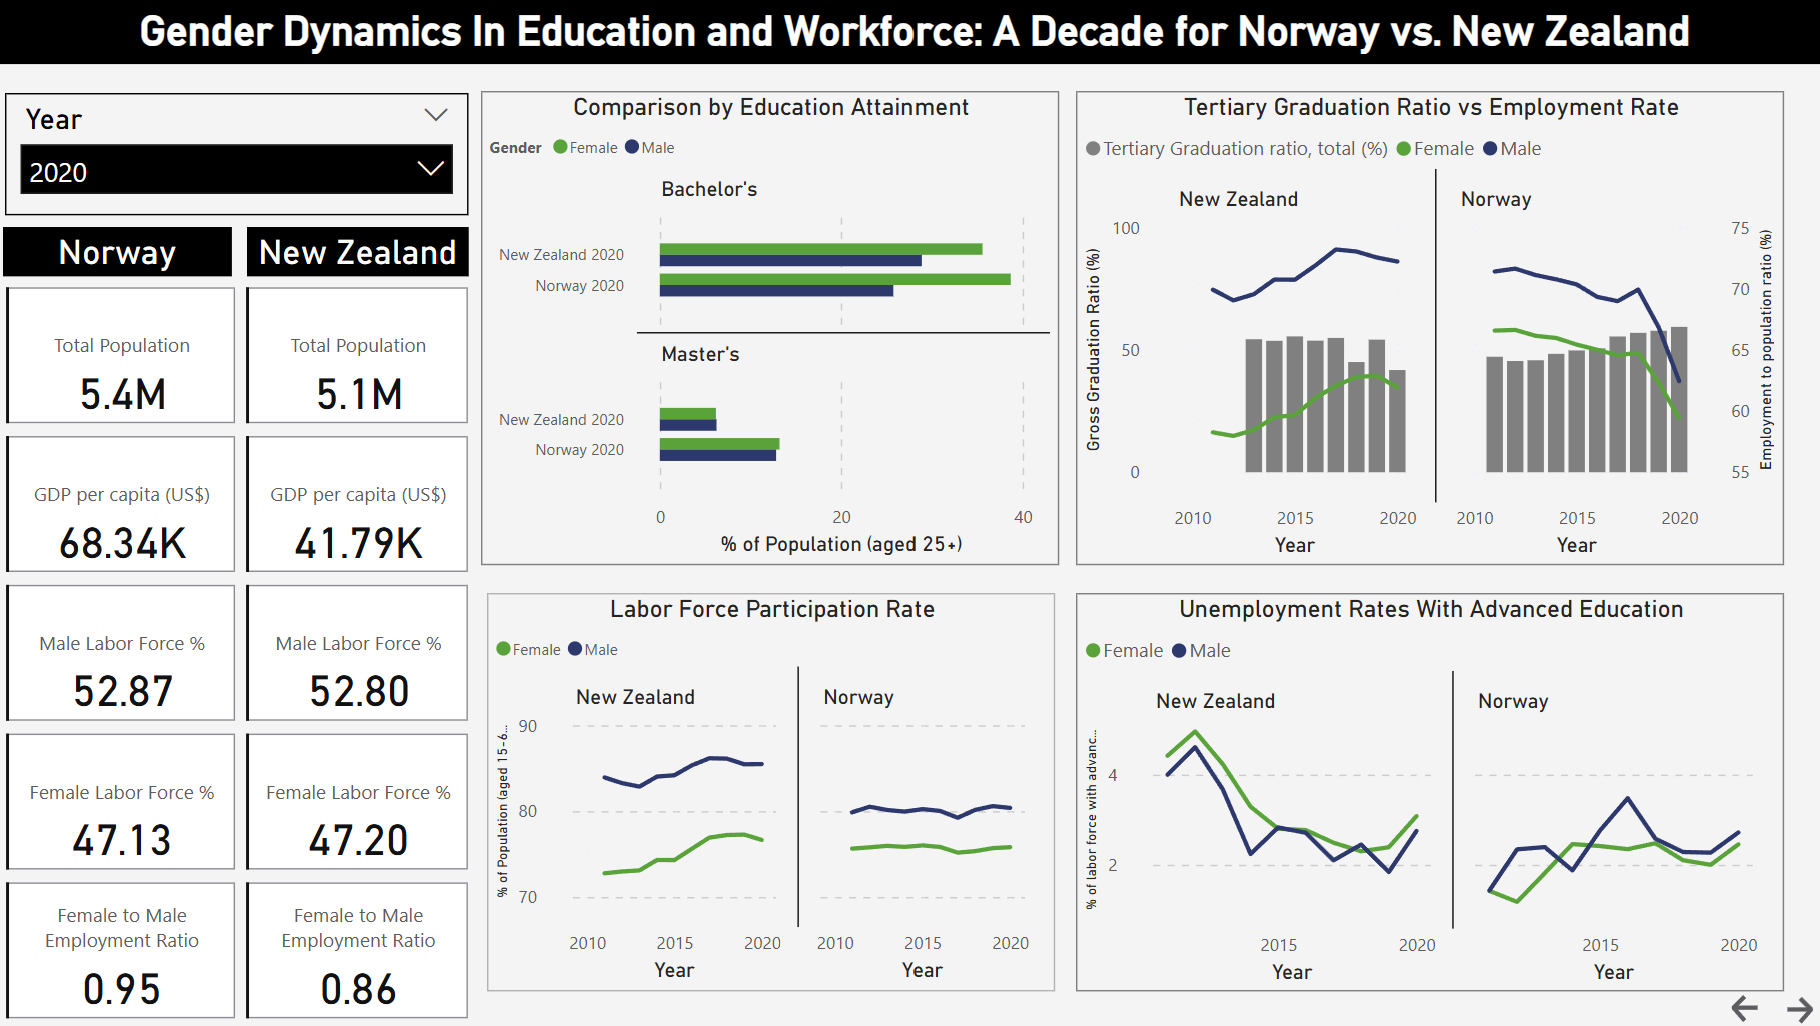

This screenshot's page, from the dashboard's own definition file:
{"tool":"powerbi","page":{"name":"Norway vs New Zealand","canvas":[1280,720],"ordinal":2},"visuals":[{"type":"textbox","box":[0,0,1280,45.6],"z":0},{"type":"slicer","fields":{"Values":["Year.Year"]},"box":[3.8,66.2,323.8,85.4],"z":1000},{"type":"cardVisual","fields":{"Data":["Sum(Economic Indicators.Population, total)","Sum(Economic Indicators.GDP per capita (Current US$))","Gender Indicators.Male Labor Force %","Gender Indicators.Female Labor Force %","Employment Indicators.Female Employment Ratio"]},"box":[0,198.3,170,521.7],"z":2000},{"type":"lineChart","title":"Labor Force Participation Rate ","fields":{"Category":["Year.Year.Variation.Date Hierarchy.Year","Country.Country Name"],"Y":["Sum(Gender Indicators.Labor force participation rate, female (% of female population ages 15-64) (modeled ILO estimate))","Sum(Gender Indicators.Labor force participation rate, male (% of male population ages 15-64) (modeled ILO estimate))"],"Rows":["Country.Country Name"]},"box":[341.7,415,396.7,278.3],"z":3000},{"type":"cardVisual","fields":{"Data":["Sum(Economic Indicators.Population, total)","Sum(Economic Indicators.GDP per capita (Current US$))","Gender Indicators.Male Labor Force %","Gender Indicators.Female Labor Force %","Employment Indicators.Female Employment Ratio"]},"box":[168.3,198.3,165,521.7],"z":4000},{"type":"shape","box":[172.9,159.1,154.8,34.6],"z":5000},{"type":"clusteredBarChart","title":"Comparison by Education Attainment","fields":{"Category":["Country.Country Name","Year.Year.Variation.Date Hierarchy.Year"],"Series":["Education Attainment.Gender"],"Y":["Sum(Education Attainment.Value)"],"Rows":["Education Attainment.Series Name (groups)"]},"box":[336.7,65,403.3,331.7],"z":6000},{"type":"shape","box":[3.1,159.1,159.8,34.6],"z":7000},{"type":"lineClusteredColumnComboChart","title":"Tertiary Graduation Ratio vs  Employment Rate","fields":{"Y":["Sum(Gender Indicators.Gross graduation ratio, tertiary, total (%))"],"Category":["Year.Year.Variation.Date Hierarchy.Year"],"Y2":["Sum(Employment Indicators.Employment to population ratio, 15+, female (%) (national estimate))","Sum(Employment Indicators.Employment to population ratio, 15+, male (%) (national estimate))"],"Rows":["Country.Country Name"]},"box":[751.7,65,495,331.7],"z":8000},{"type":"actionButton","box":[1244.3,692.9,35.7,27.1],"z":9000},{"type":"lineChart","title":"Unemployment Rates With Advanced Education","fields":{"Y":["Sum(Gender Indicators.Unemployment with advanced education, female (% of female labor force with advanced education))","Sum(Gender Indicators.Unemployment with advanced education, male (% of male labor force with advanced education))"],"Category":["Year.Year.Variation.Date Hierarchy.Year"],"Rows":["Country.Country Name"]},"box":[751.7,415,495,278.3],"z":10000},{"type":"actionButton","box":[1207.2,692.7,39.4,27.3],"z":11000}]}

Visuals, with their boxes in screenshot pixels (x1, y1, x2, y2), scaled from the page's 1280x720 canvas onto the 1820x1026 screenshot:
textbox: Rect(0, 0, 1819, 65)
slicer - Year.Year: Rect(5, 94, 466, 216)
cardVisual - Sum(Economic Indicators.Population, total) x Sum(Economic Indicators.GDP per capita (Current US$)): Rect(0, 283, 242, 1025)
"Labor Force Participation Rate " lineChart: Rect(486, 591, 1050, 988)
cardVisual - Sum(Economic Indicators.Population, total) x Sum(Economic Indicators.GDP per capita (Current US$)): Rect(239, 283, 474, 1025)
shape: Rect(246, 227, 466, 276)
"Comparison by Education Attainment" clusteredBarChart: Rect(479, 93, 1052, 565)
shape: Rect(4, 227, 232, 276)
"Tertiary Graduation Ratio vs  Employment Rate" lineClusteredColumnComboChart: Rect(1069, 93, 1773, 565)
actionButton: Rect(1769, 987, 1819, 1025)
"Unemployment Rates With Advanced Education" lineChart: Rect(1069, 591, 1773, 988)
actionButton: Rect(1716, 987, 1773, 1025)
